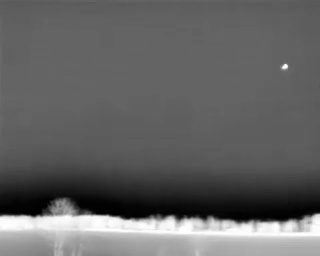BIRD: (277, 60, 293, 75)
